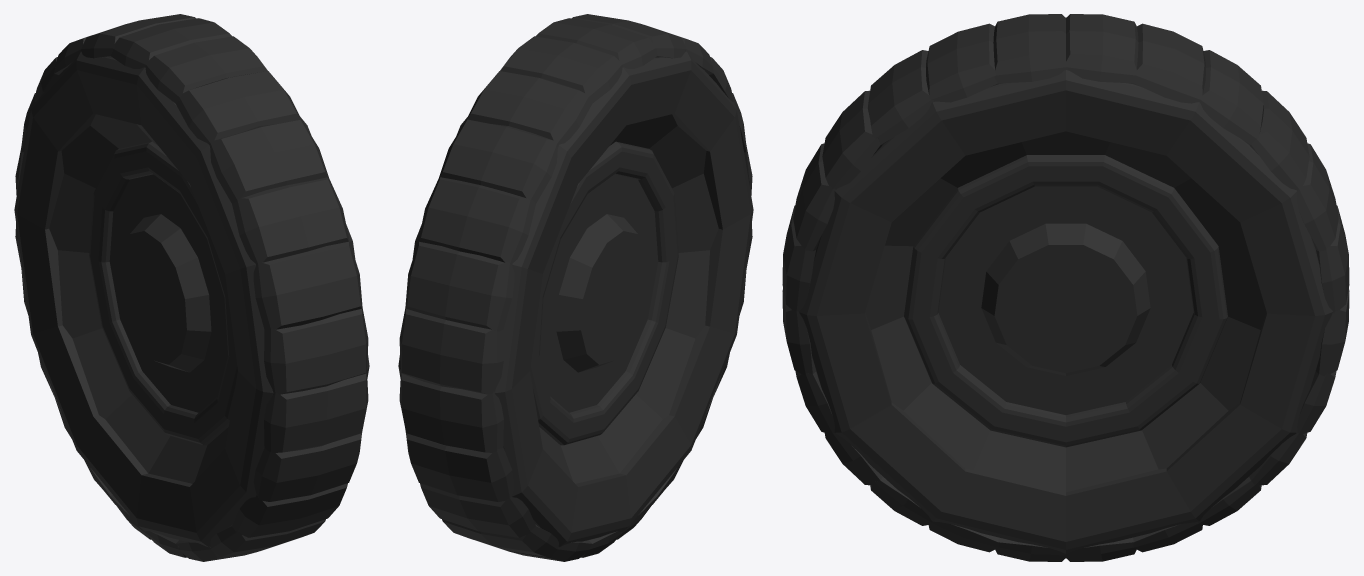
Rendered from llanta3.obj.
3 renders of one model, left to right at view 1: azimuth 30°, elevation 25°; view 2: azimuth 150°, elevation 25°; view 3: azimuth 270°, elevation 25°, orthographic. The views are drawn at different scales.
Parts seen in each view (by area): view 1: CartoonTrack_TireBackRight; view 2: CartoonTrack_TireBackRight; view 3: CartoonTrack_TireBackRight.
Boxes of the visible parts, x1,y1,x2,y2 form: CartoonTrack_TireBackRight: (14, 14, 369, 561); CartoonTrack_TireBackRight: (398, 14, 753, 561); CartoonTrack_TireBackRight: (782, 14, 1349, 561).
Size of the model in its own units: 0.2486 by 1.06 by 1.06.
